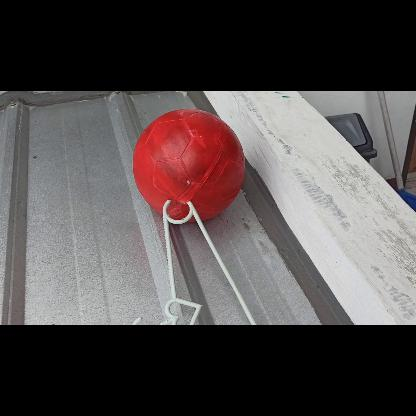red_ball: (130, 107, 244, 222)
